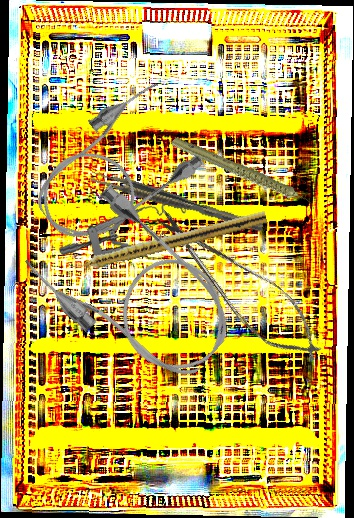Cannula: (17, 176, 252, 405), (14, 73, 215, 262)
Handpiece: (169, 110, 318, 239), (66, 206, 268, 277)
Micro Scissor: (139, 194, 338, 377)
Speculum: (57, 183, 194, 273)
Tissue Forceps: (89, 167, 264, 238)
